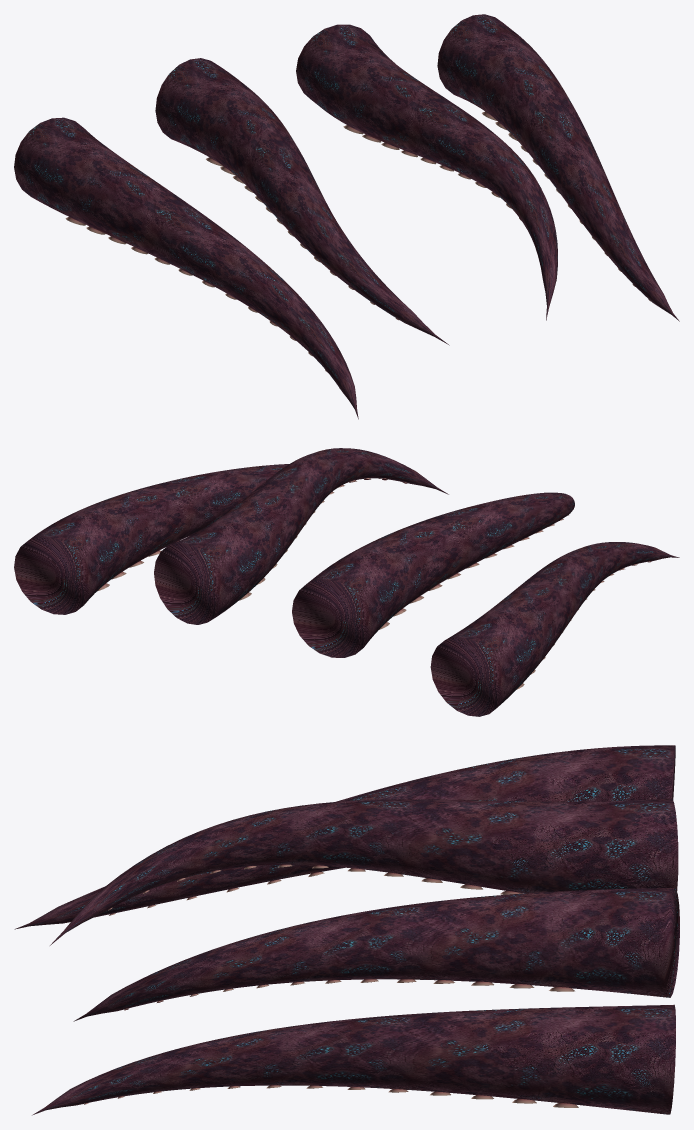
File: kraken_midboss_tentacles.obj
The picture shows the model from 3 angles, top to bottom: view 1: azimuth 30°, elevation 25°; view 2: azimuth 150°, elevation 25°; view 3: azimuth 270°, elevation 25°; orthographic projection. The views are drawn at different scales.
Parts seen in each view (by area): view 1: Midboss_Tentacle_01, Midboss_Tentacle_03, Midboss_Tentacle_04, Midboss_Tentacle_02; view 2: Midboss_Tentacle_02, Midboss_Tentacle_03, Midboss_Tentacle_04, Midboss_Tentacle_01; view 3: Midboss_Tentacle_04, Midboss_Tentacle_03, Midboss_Tentacle_02, Midboss_Tentacle_01.
Part boxes in pixels (<box>): Midboss_Tentacle_01: <box>14,117,358,419</box>; Midboss_Tentacle_03: <box>296,24,557,320</box>; Midboss_Tentacle_04: <box>437,14,679,321</box>; Midboss_Tentacle_02: <box>155,58,449,345</box>; Midboss_Tentacle_02: <box>292,492,574,657</box>; Midboss_Tentacle_03: <box>154,448,448,624</box>; Midboss_Tentacle_04: <box>14,464,288,614</box>; Midboss_Tentacle_01: <box>430,542,679,716</box>; Midboss_Tentacle_04: <box>32,1004,675,1115</box>; Midboss_Tentacle_03: <box>73,888,679,1021</box>; Midboss_Tentacle_02: <box>50,798,678,945</box>; Midboss_Tentacle_01: <box>14,745,675,929</box>.
Size of the model in its own units: 12.28 by 3.44 by 11.29.
Materials: 3 (3 with a texture image).
